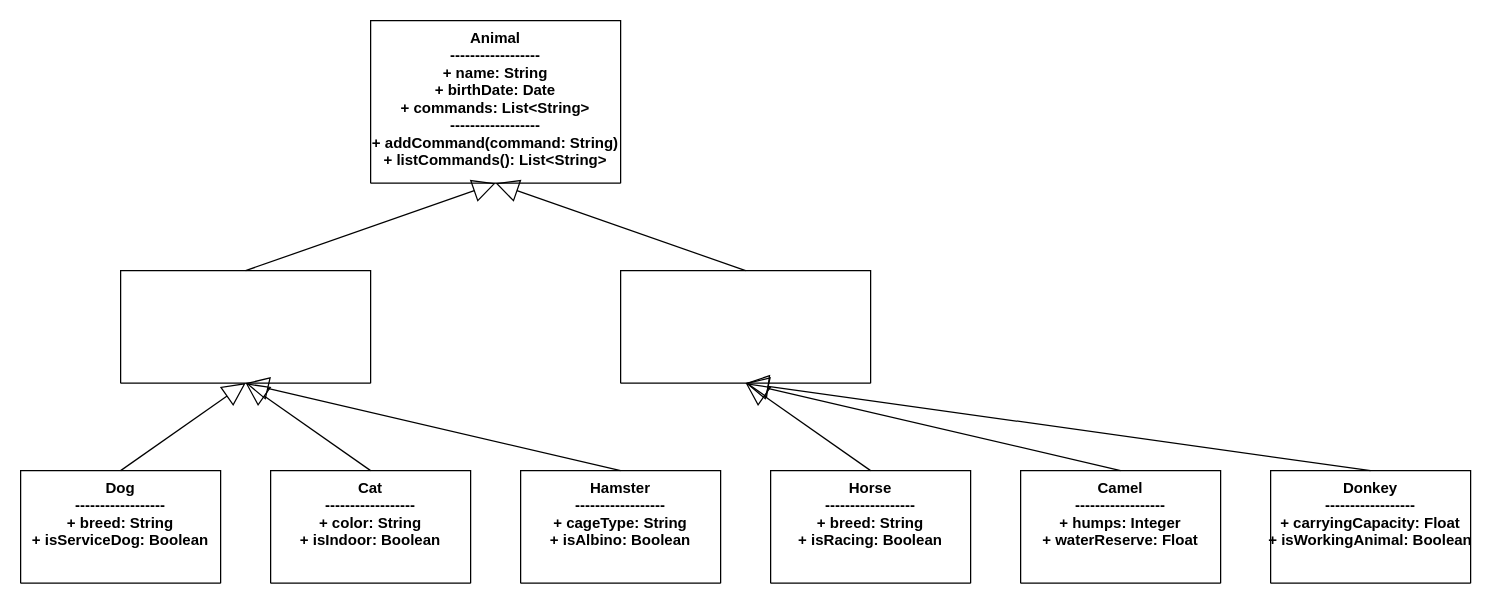
Image size: 1493x604. Some labels were removed from this diagram. The shapes that lost their labels are listed below. From the top down, each one's centre as x and y in pixels, then its label:
At point (245, 326): "Pets ------------------ + isVaccinated: Boolean + ownerName: String".
At point (745, 326): "PackAnimals ------------------ + maxLoadCapacity: Float + distanceLimit: Float".
